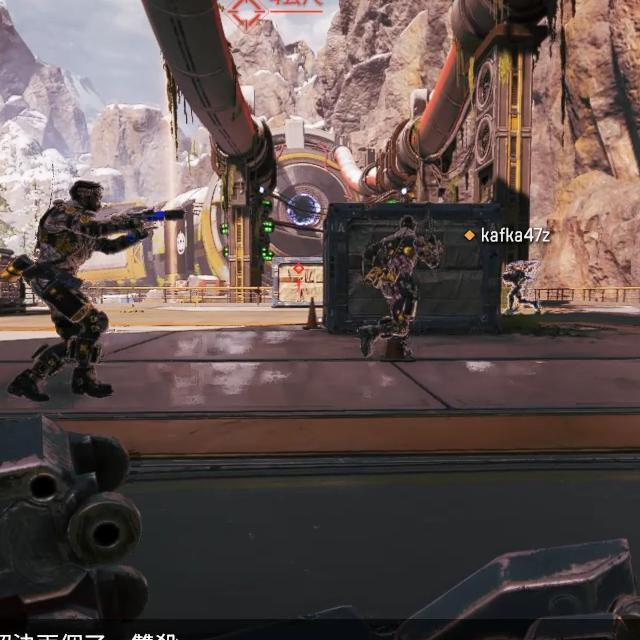avatar: (11, 179, 114, 400), (358, 216, 421, 362), (503, 261, 529, 314)
